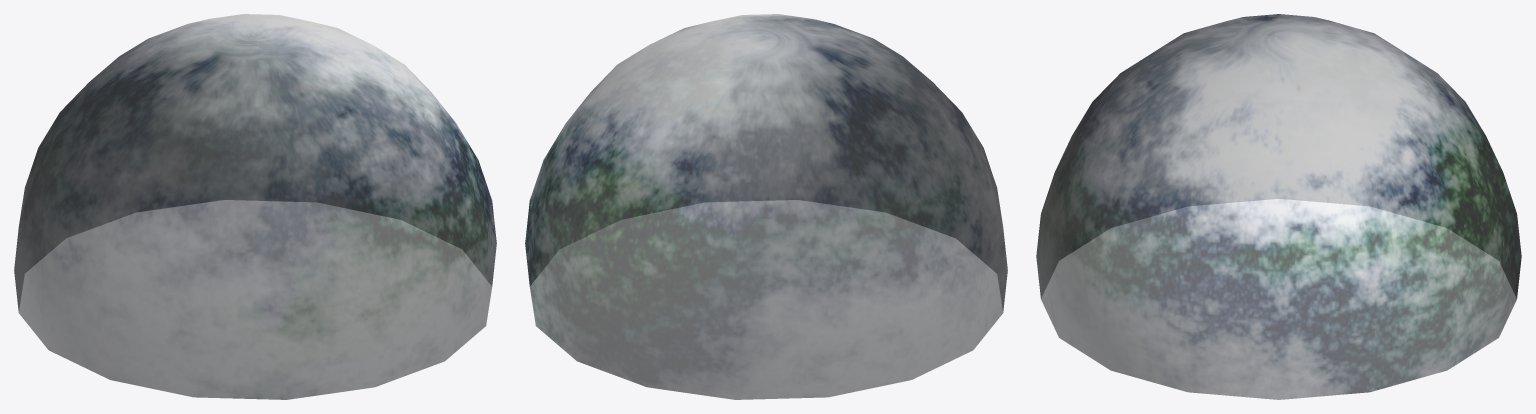
Rendered from Skybox.fbx.
3 renders of one model, left to right at view 1: azimuth 30°, elevation 25°; view 2: azimuth 150°, elevation 25°; view 3: azimuth 270°, elevation 25°, orthographic.
Visible parts, largest first — view 1: Esfera UV; view 2: Esfera UV; view 3: Esfera UV.
Boxes of the visible parts, box(x1,y1,x2,y2) form: Esfera UV: box(14, 14, 496, 399); Esfera UV: box(525, 14, 1007, 399); Esfera UV: box(1036, 14, 1521, 399).
Bounding box in the file's own units: 400 × 239 × 400.
1 material, 1 textured.
